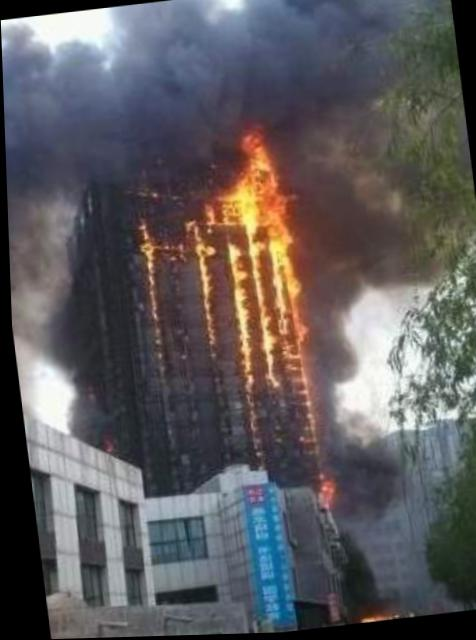fire: (124, 129, 307, 392)
